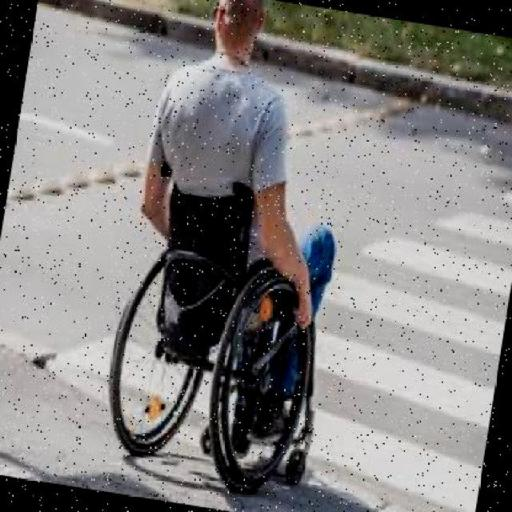cadeira_de_rodas: (102, 0, 345, 482)
